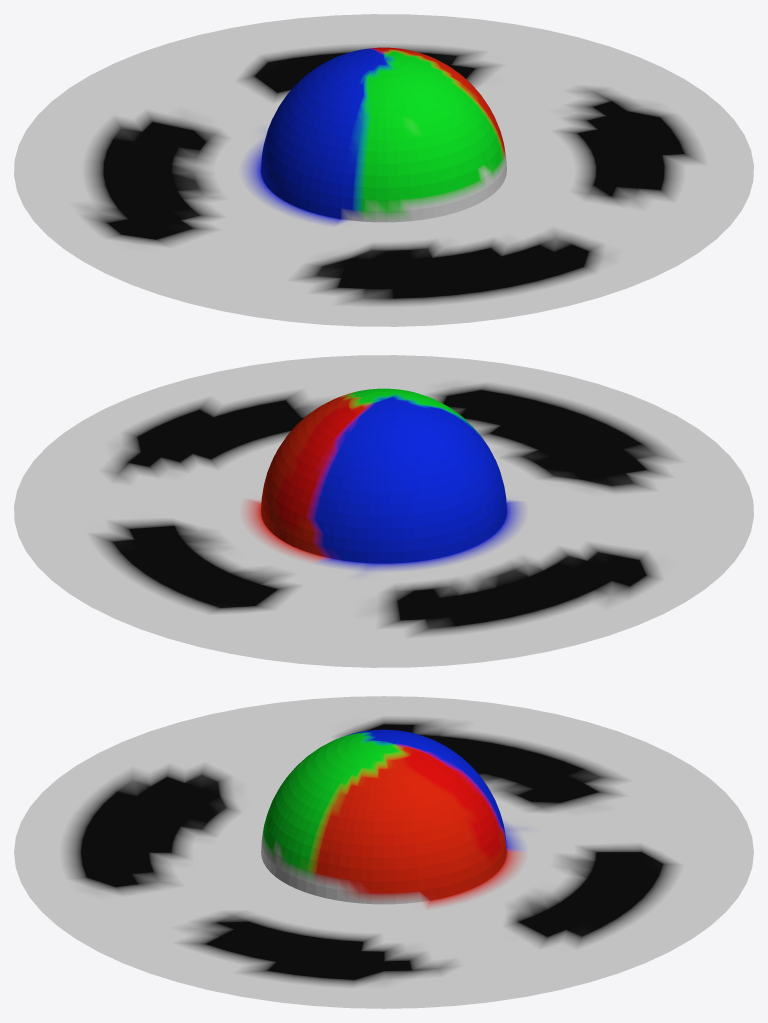
File: VertexColourTest.fbx
The picture shows the model from 3 angles, top to bottom: view 1: azimuth 30°, elevation 25°; view 2: azimuth 150°, elevation 25°; view 3: azimuth 270°, elevation 25°; orthographic projection.
Visible parts, largest first — view 1: Sphere; view 2: Sphere; view 3: Sphere.
Part boxes in pixels (x1,y1,x2,y2): Sphere: (14,14,753,326); Sphere: (14,355,753,667); Sphere: (14,696,753,1008).
Bounding box in the file's own units: 602 × 100 × 602.
